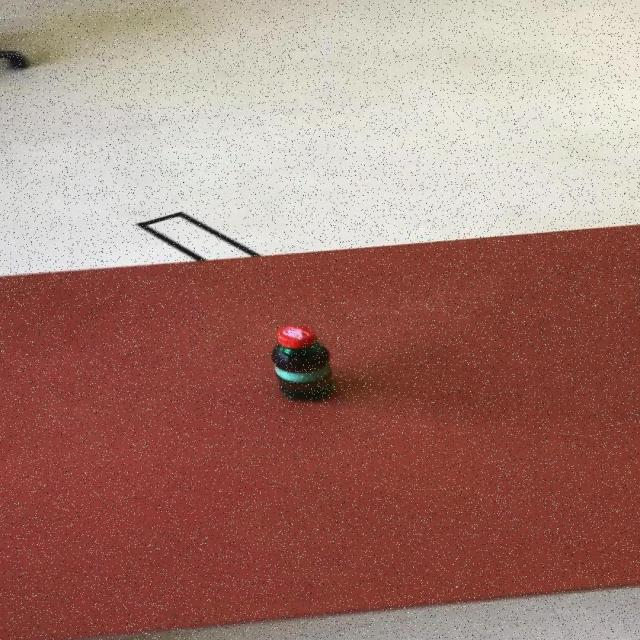Guarana: (272, 324, 338, 401)
